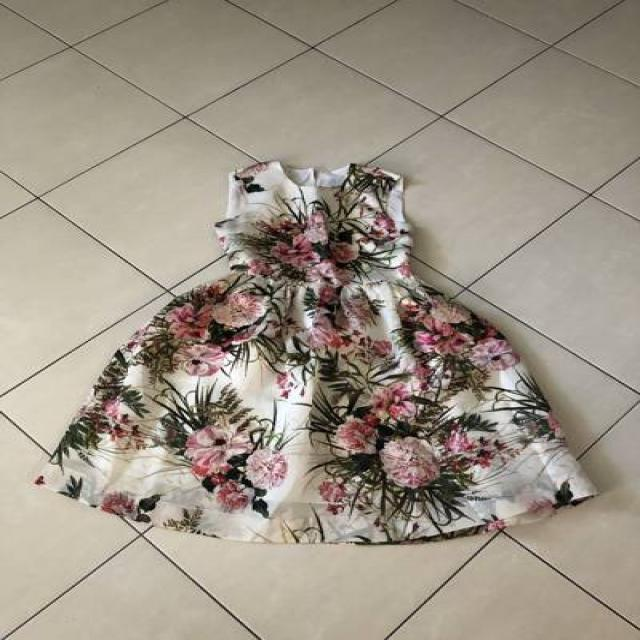Clothes -Biodegradable-: (28, 157, 597, 545)
